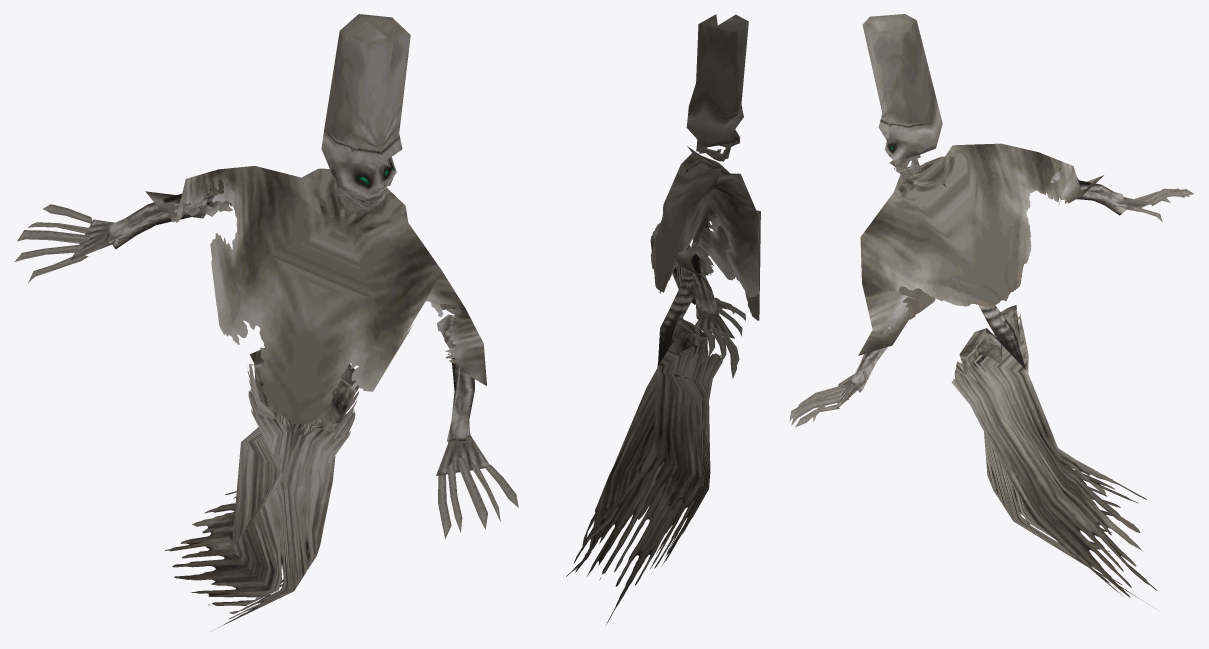
Rendered from ghost_white_d12ebed7.glb.
3 views of the same model, side by side, from view 1: azimuth 30°, elevation 25°; view 2: azimuth 150°, elevation 25°; view 3: azimuth 270°, elevation 25° (orthographic). The views are drawn at different scales.
Size of the model in its own units: 0.7708 by 1.88 by 1.15.
1 material, 1 textured.
